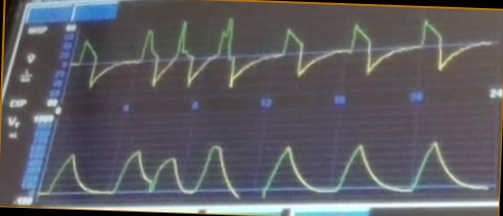Double_Triggering Flow: (77, 17, 457, 90)
Double_Triggering Volume: (44, 141, 458, 198)
